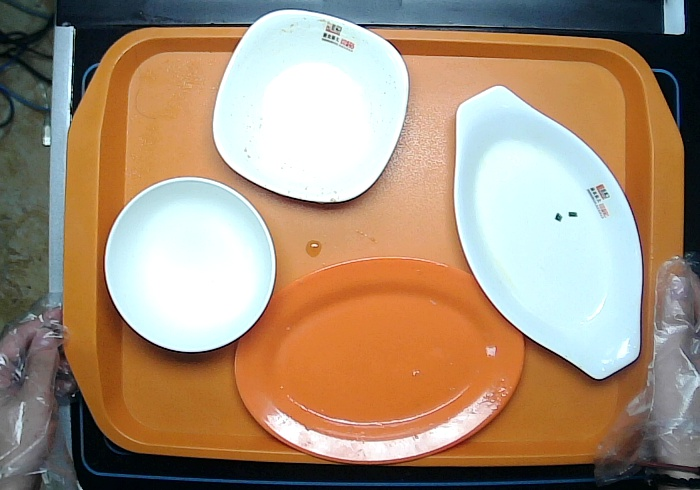NLDX-Bai_Se_Xiao_Fang_Die: (212, 7, 409, 204)
NLDX-Fan_Wan: (103, 176, 278, 353)
NLDX-Ju_Se_Pan: (233, 257, 525, 465)
NLDX-Yu_Pan: (451, 85, 642, 380)
